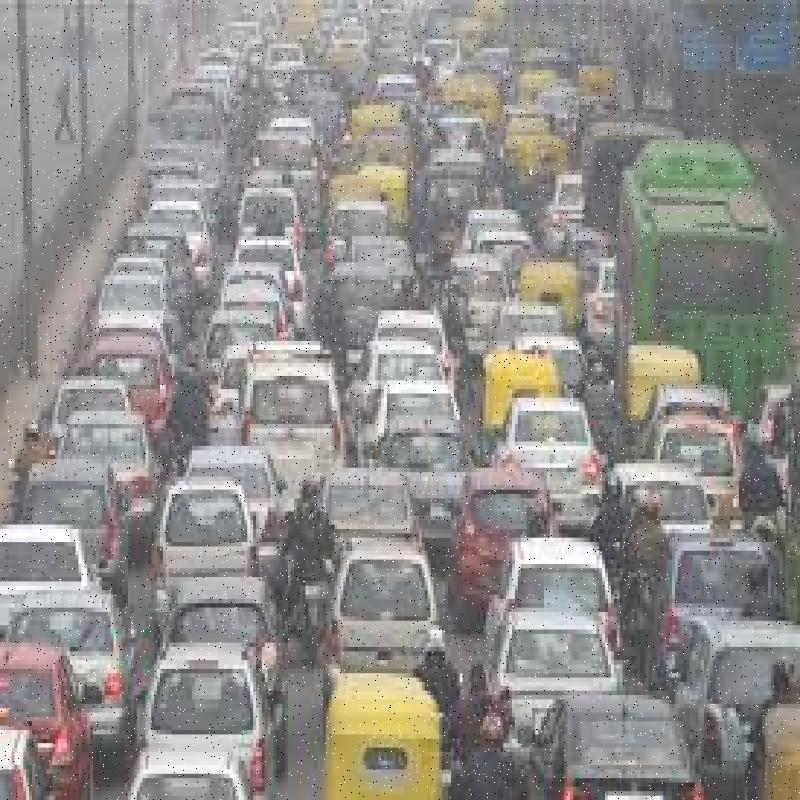auto: (304, 666, 446, 800), (477, 348, 564, 437), (624, 338, 701, 422), (525, 236, 582, 331)
bike: (298, 558, 328, 653)
car: (534, 673, 698, 800), (0, 579, 127, 735), (478, 541, 618, 679), (140, 635, 254, 795), (140, 637, 269, 774), (148, 465, 250, 622), (327, 532, 439, 672), (14, 448, 119, 578), (59, 394, 153, 531), (246, 343, 338, 480), (366, 366, 461, 452)
